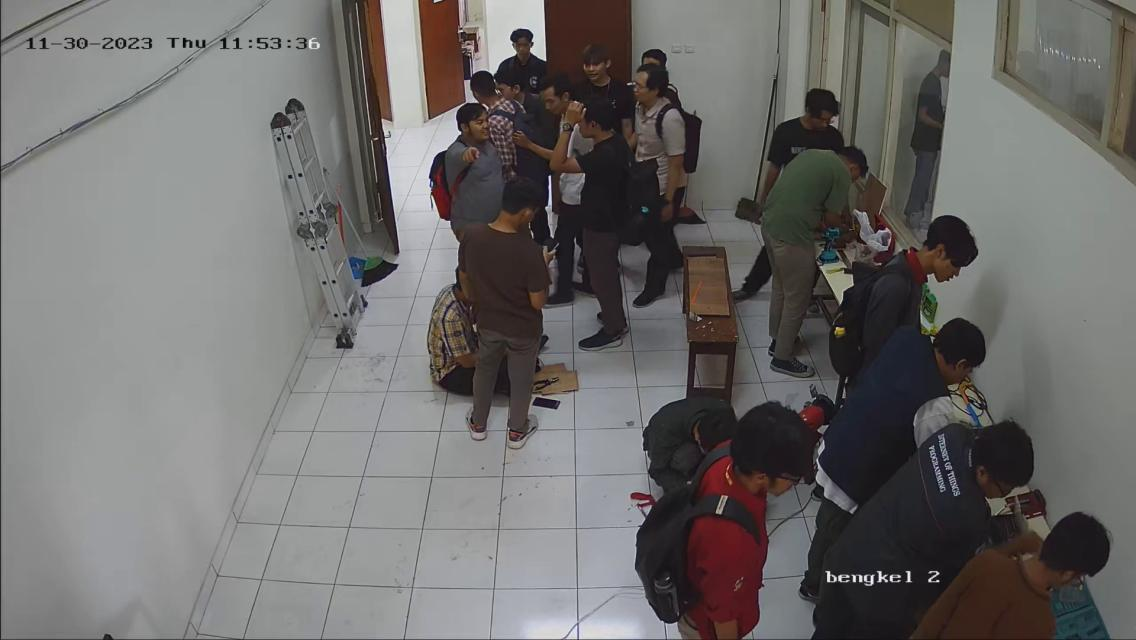Crowd: (418, 19, 726, 432)
